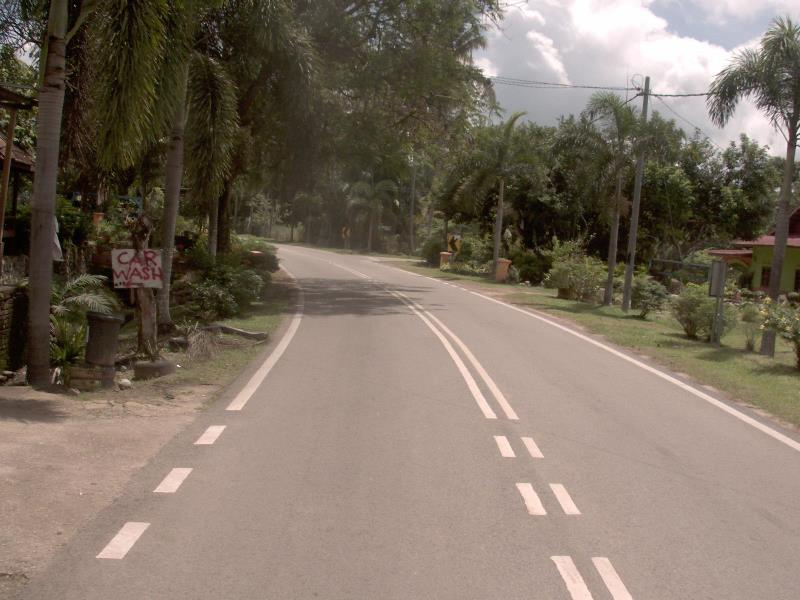ads_sign: (103, 238, 172, 298)
